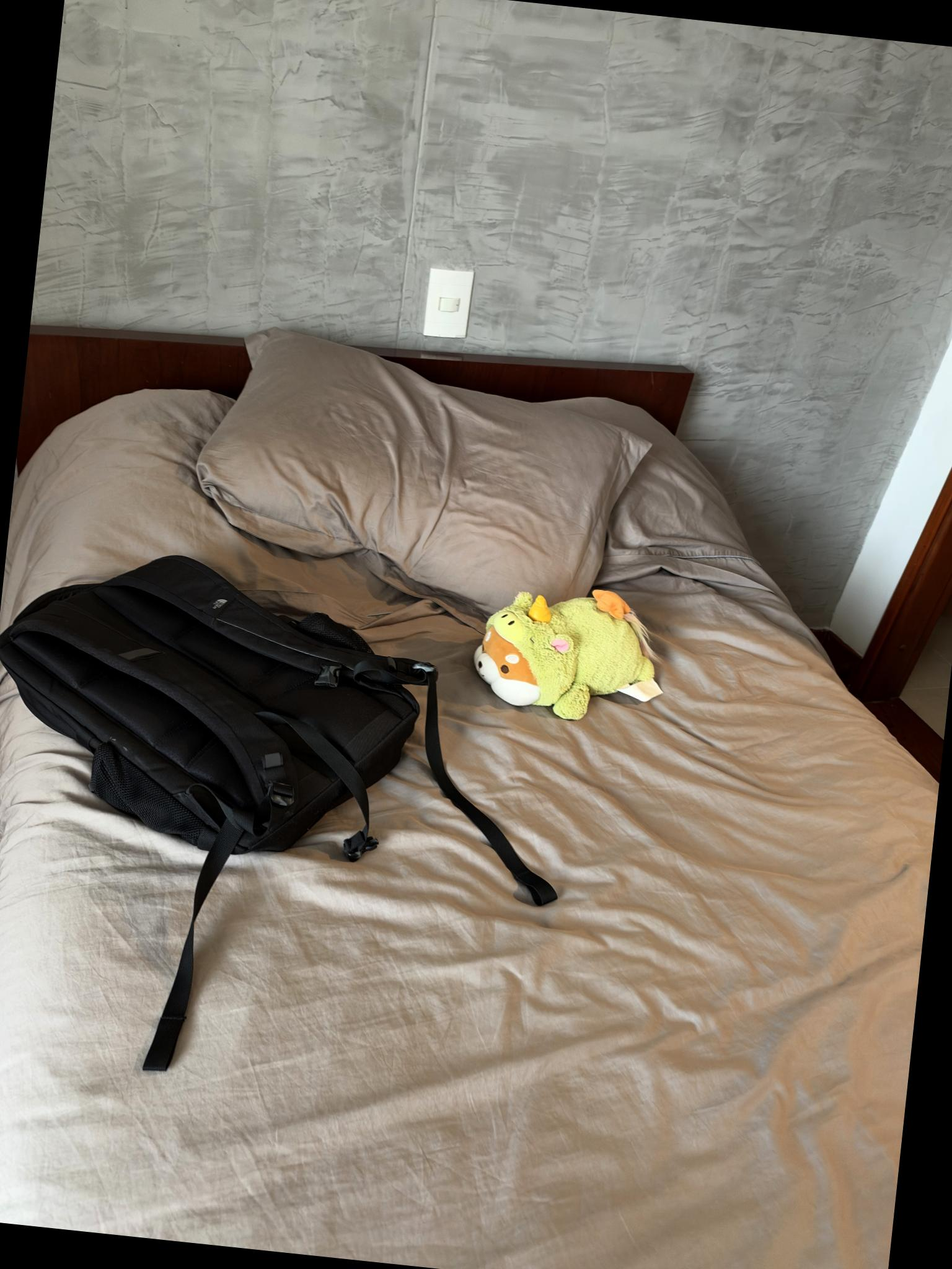peluche_martin: (468, 577, 669, 730)
